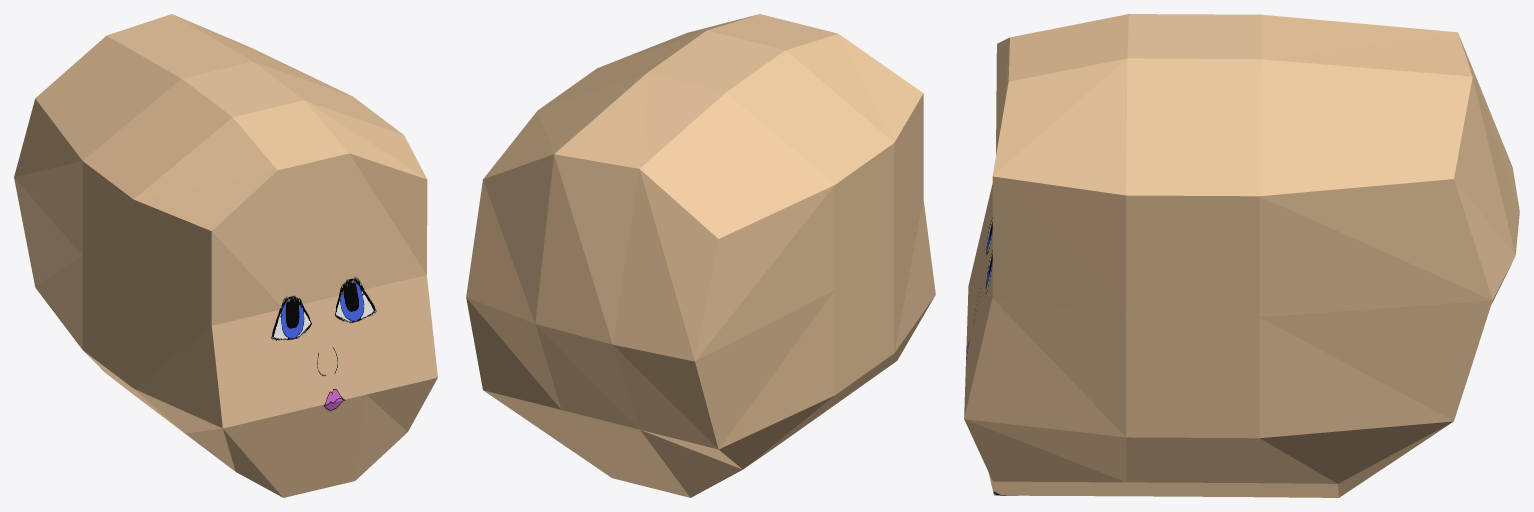
The model's file is Baby.FBX.
The picture shows the model from 3 angles, left to right: view 1: azimuth 30°, elevation 25°; view 2: azimuth 150°, elevation 25°; view 3: azimuth 270°, elevation 25°; orthographic projection. The views are drawn at different scales.
Parts seen in each view (by area): view 1: Head; view 2: Head; view 3: Head.
Boxes of the visible parts, box(x1,y1,x2,y2) form: Head: box(14, 14, 437, 497); Head: box(466, 14, 935, 497); Head: box(964, 14, 1519, 497).
Size of the model in its own units: 15.95 by 19.31 by 22.21.
Materials: 1 (1 with a texture image).
